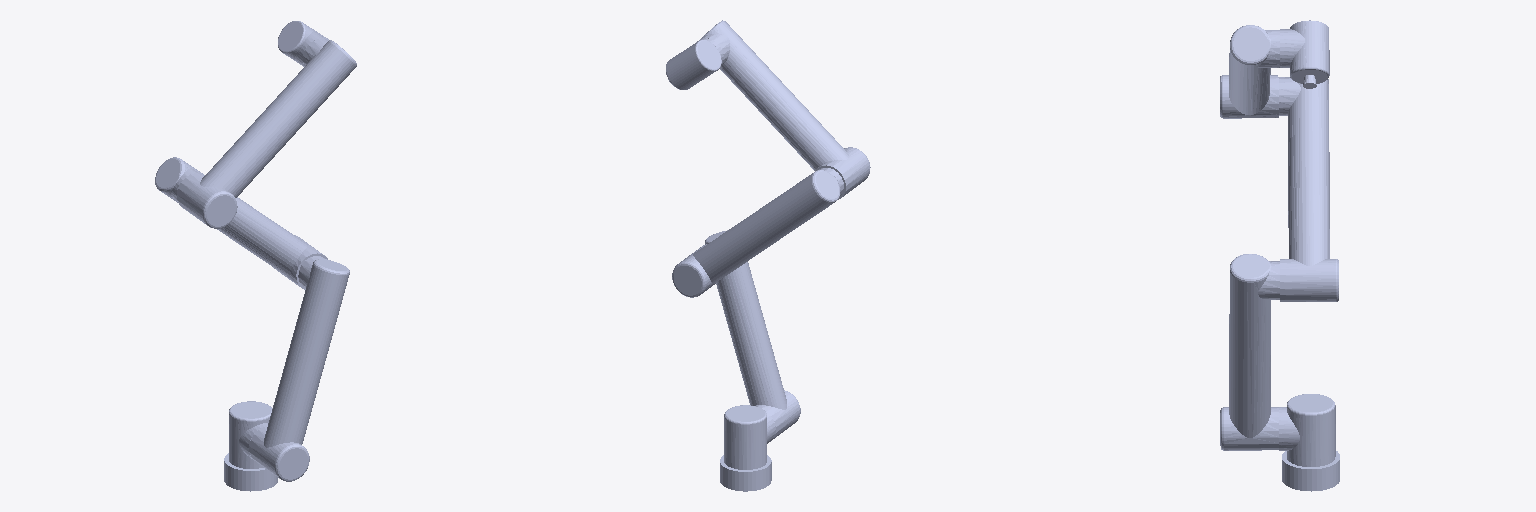
The robot description file, URDF, robot "ur5_robot_manipulator":
<?xml version="1.0" encoding="utf-8" ?>
<robot name="ur5_robot_manipulator">
    <link name="world" />
    <joint name="fixed" type="fixed">
        <parent link="world" />
        <origin rpy="0 0 1.9" xyz="0.16492 .15 -0.11" />
        <child link="base_link" />
    </joint>
    <link name="base_link">
        
<inertial>
            <origin rpy="0 0 0" xyz="0.021007 0.28947 0.0061873" />
            <mass value="0.56284" />
            <inertia ixx="0.00062585" ixy="-1.1353E-22" ixz="1.1112E-20" iyy="0.0010178" iyz="1.2109E-22" izz="0.00062585" />
        </inertial>

        <visual>
            <origin rpy="0 0 0" xyz="0 0 0" />
            <geometry>
                <mesh filename="package://ur5_robot_manipulator/meshes/base_link.STL" />
            </geometry>
            <material name="">
                <color rgba="0.79216 0.81961 0.93333 1" />
            </material>
        </visual>
        <collision>
            <origin rpy="0 0 0" xyz="0 0 0" />
            <geometry>
                <mesh filename="package://ur5_robot_manipulator/meshes/base_link.STL" />
            </geometry>
        </collision>
    </link>
    <link name="shoulder_Link">
        
<inertial>
            <origin rpy="0 0 0" xyz="0.0065578 0.075603 1.1315E-07" />
            <mass value="1.0823" />
            <inertia ixx="0.0018986" ixy="-2.0558E-05" ixz="4.7959E-09" iyy="0.0016125" iyz="9.8203E-10" izz="0.0021625" />
        </inertial>

        <visual>
            <origin rpy="0 0 0" xyz="0 0 0" />
            <geometry>
                <mesh filename="package://ur5_robot_manipulator/meshes/shoulder_Link.STL" />
            </geometry>
            <material name="">
                <color rgba="0.79216 0.81961 0.93333 1" />
            </material>
        </visual>
        <collision>
            <origin rpy="0 0 0" xyz="0 0 0" />
            <geometry>
                <mesh filename="package://ur5_robot_manipulator/meshes/shoulder_Link.STL" />
            </geometry>
        </collision>
    </link>
    <joint name="shoulder_base_joint" type="revolute">
        <origin rpy="1.5708 0 2.8208" xyz="0.021007 -0.0061873 0.29955" />
        <parent link="base_link" />
        <child link="shoulder_Link" />
        <axis xyz="0 1 0" />
        <limit effort="0" lower="-2.5" upper="2.5" velocity="0" />
    </joint>
    <link name="arm_Link">
        
<inertial>
            <origin rpy="0 0 0" xyz="0.143782974771491 0.19355146427782 -4.02693275641797E-07" />
            <mass value="3.19255597246339" />
            <inertia ixx="0.0740663665718892" ixy="0.00125590529074301" ixz="9.5243675255624E-09" iyy="0.00369985043089469" iyz="-2.35227359024687E-07" izz="0.0747821188201623" />
        </inertial>

        <visual>
            <origin rpy="0 0 0" xyz="0 0 0" />
            <geometry>
                <mesh filename="package://ur5_robot_manipulator/meshes/arm_Link.STL" />
            </geometry>
            <material name="">
                <color rgba="0.792156862745098 0.819607843137255 0.933333333333333 1" />
            </material>
        </visual>
        <collision>
            <origin rpy="0 0 0" xyz="0 0 0" />
            <geometry>
                <mesh filename="package://ur5_robot_manipulator/meshes/arm_Link.STL" />
            </geometry>
        </collision>
    </link>
    <joint name="shoulder_arm_joint" type="revolute">
        <origin rpy="-0.30332 0 0" xyz="-0.020615 0.0785 0" />
        <parent link="shoulder_Link" />
        <child link="arm_Link" />
        <axis xyz="1 0 0" />
        <limit effort="0" lower="-2.5" upper="2.5" velocity="0" />
    </joint>
    <link name="arm2_Link">
        
<inertial>
            <origin rpy="0 0 0" xyz="-0.0264479695995214 0.19355144403667 -3.99274730167321E-07" />
            <mass value="3.19255425490173" />
            <inertia ixx="0.0740663496101479" ixy="0.00125590738579559" ixz="1.16925686329331E-08" iyy="0.00369984819211261" iyz="-2.36422770259368E-07" izz="0.0747821027063394" />
        </inertial>

        <visual>
            <origin rpy="0 0 0" xyz="0 0 0" />
            <geometry>
                <mesh filename="package://ur5_robot_manipulator/meshes/arm2_Link.STL" />
            </geometry>
            <material name="">
                <color rgba="0.792156862745098 0.819607843137255 0.933333333333333 1" />
            </material>
        </visual>
        <collision>
            <origin rpy="0 0 0" xyz="0 0 0" />
            <geometry>
                <mesh filename="package://ur5_robot_manipulator/meshes/arm2_Link.STL" />
            </geometry>
        </collision>
    </link>
    <joint name="arm_arm2_joint" type="revolute">
        <origin rpy="1.9882 0 3.1416" xyz="0 0.41 0" />
        <parent link="arm_Link" />
        <child link="arm2_Link" />
        <axis xyz="1 0 0" />
        <limit effort="0" lower="-2.5" upper="2.5" velocity="0" />
    </joint>
    <link name="arm3_Link">
        
<inertial>
            <origin rpy="0 0 0" xyz="0.206202752776446 0.193551444410303 -3.97305547905624E-07" />
            <mass value="3.19255413696875" />
            <inertia ixx="0.0740663485863286" ixy="0.00125590750417122" ixz="1.1796988261259E-08" iyy="0.00369984825268348" iyz="-2.36223663448143E-07" izz="0.0747821017315746" />
        </inertial>

        <visual>
            <origin rpy="0 0 0" xyz="0 0 0" />
            <geometry>
                <mesh filename="package://ur5_robot_manipulator/meshes/arm3_Link.STL" />
            </geometry>
            <material name="">
                <color rgba="0.792156862745098 0.819607843137255 0.933333333333333 1" />
            </material>
        </visual>
        <collision>
            <origin rpy="0 0 0" xyz="0 0 0" />
            <geometry>
                <mesh filename="package://ur5_robot_manipulator/meshes/arm3_Link.STL" />
            </geometry>
        </collision>
    </link>
    <joint name="arm2_arm3_joint" type="revolute">
        <origin rpy="1.3976 0 3.1416" xyz="0.06242 0.41 0" />
        <parent link="arm2_Link" />
        <child link="arm3_Link" />
        <axis xyz="1 0 0" />
        <limit effort="0" lower="-2.5" upper="2.5" velocity="0" />
    </joint>
    <link name="end_effector_Link">
        
<inertial>
            <origin rpy="0 0 0" xyz="0.00816424968547602 -8.40535159252198E-08 0.0938564384562105" />
            <mass value="0.694673478091543" />
            <inertia ixx="0.000745536516391558" ixy="-2.85339379451884E-09" ixz="4.58218121411216E-05" iyy="0.00111723612968963" iyz="-1.3944512217151E-09" izz="0.000952630970924235" />
        </inertial>

        <visual>
            <origin rpy="0 0 0" xyz="0 0 0" />
            <geometry>
                <mesh filename="package://ur5_robot_manipulator/meshes/end_effector_Link.STL" />
            </geometry>
            <material name="">
                <color rgba="0.792156862745098 0.819607843137255 0.933333333333333 1" />
            </material>
        </visual>
        <collision>
            <origin rpy="0 0 0" xyz="0 0 0" />
            <geometry>
                <mesh filename="package://ur5_robot_manipulator/meshes/end_effector_Link.STL" />
            </geometry>
        </collision>
    </link>
    <joint name="arm3_end_effector_joint" type="revolute">
        <origin rpy="1.5708 1.3802 1.5708" xyz="0.0012584 0.41 0" />
        <parent link="arm3_Link" />
        <child link="end_effector_Link" />
        <axis xyz="0 0 1" />
        <limit effort="0" lower="-2.5" upper="2.5" velocity="0" />
    </joint>
    
<transmission name="trans_shoulder_base_joint">
        <type>transmission_interface/SimpleTransmission</type>
        <joint name="shoulder_base_joint">
            <hardwareInterface>hardware_interface/EffortJointInterface</hardwareInterface>
        </joint>
        <actuator name="shoulder_base_joint_motor">
            <hardwareInterface>hardware_interface/EffortJointInterface</hardwareInterface>
            <mechanicalReduction>1</mechanicalReduction>
        </actuator>
    </transmission>
    <transmission name="trans_shoulder_arm_joint">
        <type>transmission_interface/SimpleTransmission</type>
        <joint name="shoulder_arm_joint">
            <hardwareInterface>hardware_interface/EffortJointInterface</hardwareInterface>
        </joint>
        <actuator name="shoulder_arm_joint_motor">
            <hardwareInterface>hardware_interface/EffortJointInterface</hardwareInterface>
            <mechanicalReduction>1</mechanicalReduction>
        </actuator>
    </transmission>
    <transmission name="trans_arm_arm2_joint">
        <type>transmission_interface/SimpleTransmission</type>
        <joint name="arm_arm2_joint">
            <hardwareInterface>hardware_interface/EffortJointInterface</hardwareInterface>
        </joint>
        <actuator name="arm_arm2_joint_motor">
            <hardwareInterface>hardware_interface/EffortJointInterface</hardwareInterface>
            <mechanicalReduction>1</mechanicalReduction>
        </actuator>
    </transmission>
    <transmission name="trans_arm2_arm3_joint">
        <type>transmission_interface/SimpleTransmission</type>
        <joint name="arm2_arm3_joint">
            <hardwareInterface>hardware_interface/EffortJointInterface</hardwareInterface>
        </joint>
        <actuator name="arm2_arm3_joint_motor">
            <hardwareInterface>hardware_interface/EffortJointInterface</hardwareInterface>
            <mechanicalReduction>1</mechanicalReduction>
        </actuator>
    </transmission>
    <transmission name="trans_arm3_end_effector_joint">
        <type>transmission_interface/SimpleTransmission</type>
        <joint name="arm3_end_effector_joint">
            <hardwareInterface>hardware_interface/EffortJointInterface</hardwareInterface>
        </joint>
        <actuator name="arm3_end_effector_joint_motor">
            <hardwareInterface>hardware_interface/EffortJointInterface</hardwareInterface>
            <mechanicalReduction>1</mechanicalReduction>
        </actuator>
    </transmission>
    <gazebo>
        <plugin name="gazebo_ros_control" filename="libgazebo_ros_control.so">
            <robotNamespace>/ur5_robot_manipulator</robotNamespace>
	    <robotSimType>gazebo_ros_control/DefaultRobotHWSim</robotSimType>
        </plugin>
    </gazebo>
</robot>

--- What the picture shows (computed from the rendered views, not written in the file) ---
The picture shows the robot from 3 angles, left to right: view 1: azimuth 30°, elevation 25°; view 2: azimuth 150°, elevation 25°; view 3: azimuth 270°, elevation 25°; orthographic projection.
Robot: ur5_robot_manipulator — 7 links, 6 joints (5 revolute, 1 fixed); root link world; default pose: all joints at 0.
Visible links, largest first — view 1: arm3_Link, arm_Link, arm2_Link, shoulder_Link, base_link, end_effector_Link; view 2: arm3_Link, arm2_Link, arm_Link, shoulder_Link, end_effector_Link, base_link; view 3: arm2_Link, arm_Link, arm3_Link, shoulder_Link, end_effector_Link, base_link.
Link boxes in pixels (x1,y1,x2,y2): arm3_Link: [177, 39, 356, 228]; arm_Link: [249, 256, 349, 481]; arm2_Link: [155, 157, 327, 289]; shoulder_Link: [229, 401, 272, 468]; base_link: [224, 453, 277, 491]; end_effector_Link: [278, 21, 328, 66]; arm3_Link: [701, 20, 870, 199]; arm2_Link: [672, 168, 843, 297]; arm_Link: [705, 230, 800, 438]; shoulder_Link: [724, 405, 775, 469]; end_effector_Link: [666, 38, 723, 89]; base_link: [720, 455, 771, 491]; arm2_Link: [1278, 77, 1338, 301]; arm_Link: [1220, 254, 1279, 450]; arm3_Link: [1220, 25, 1279, 118]; shoulder_Link: [1279, 394, 1335, 466]; end_effector_Link: [1280, 20, 1329, 88]; base_link: [1282, 451, 1339, 491].
Size in the robot's own frame: 0.4478 by 0.2468 by 1.09 metres.
Meshes: 6 distinct files referenced, 6 mesh visuals loaded (6 binary STL).